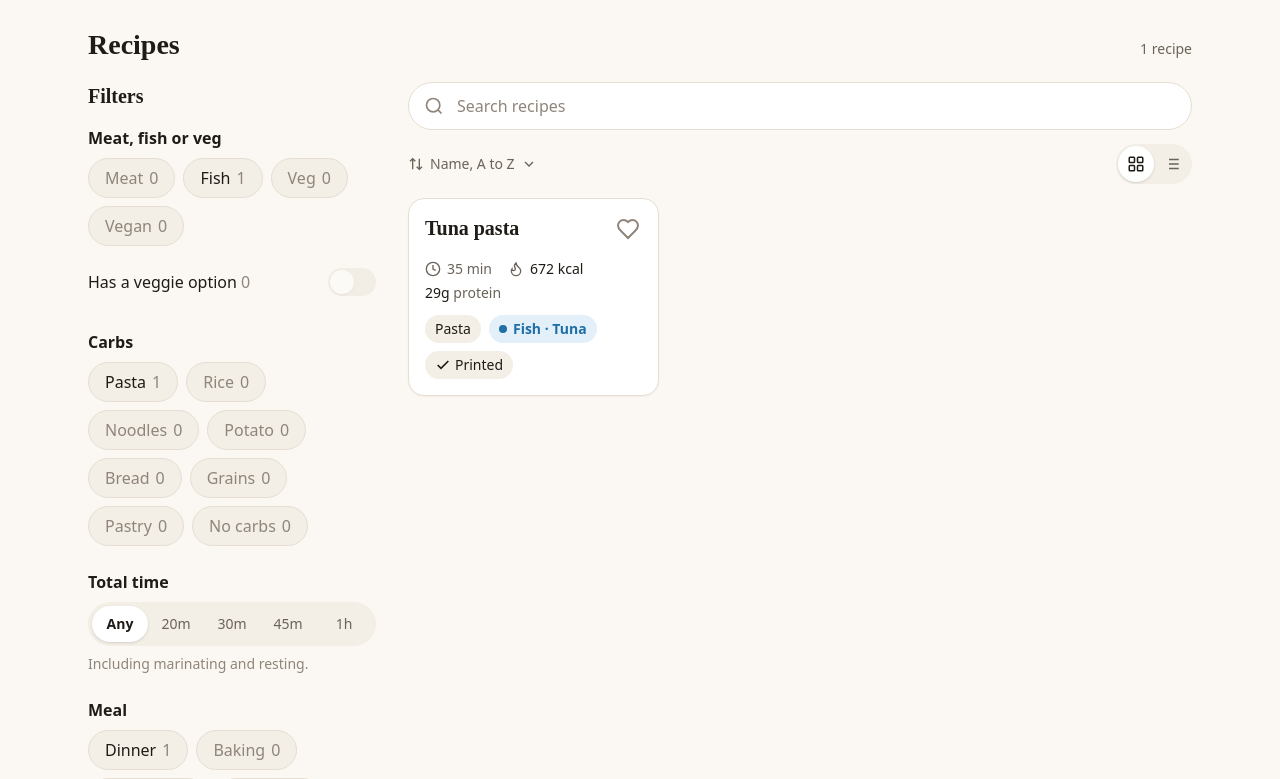
Test: the recipe library › switches view and remembers the choice in a cookie
Click the button named "List": {"x": 1172, "y": 164} left=1154, top=146, right=1190, bottom=182
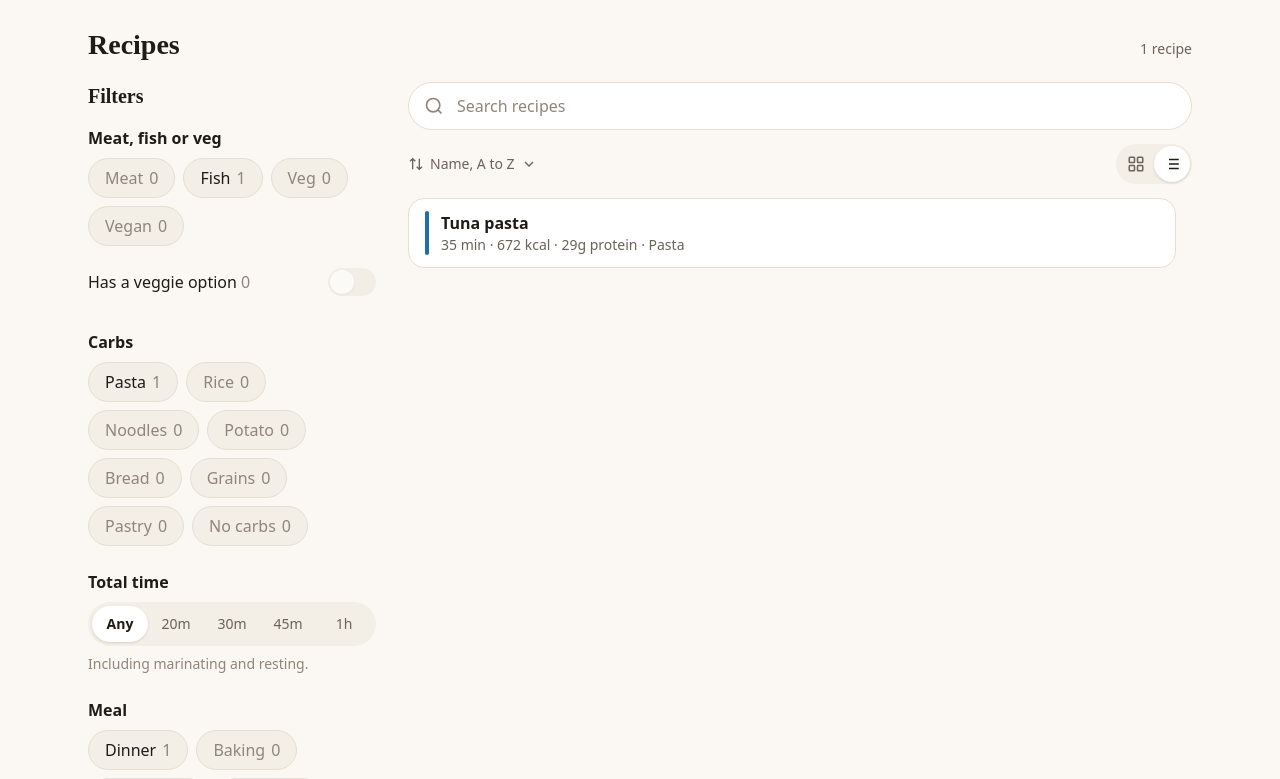
Click the button named "Cards": {"x": 1136, "y": 164} left=1118, top=146, right=1154, bottom=182
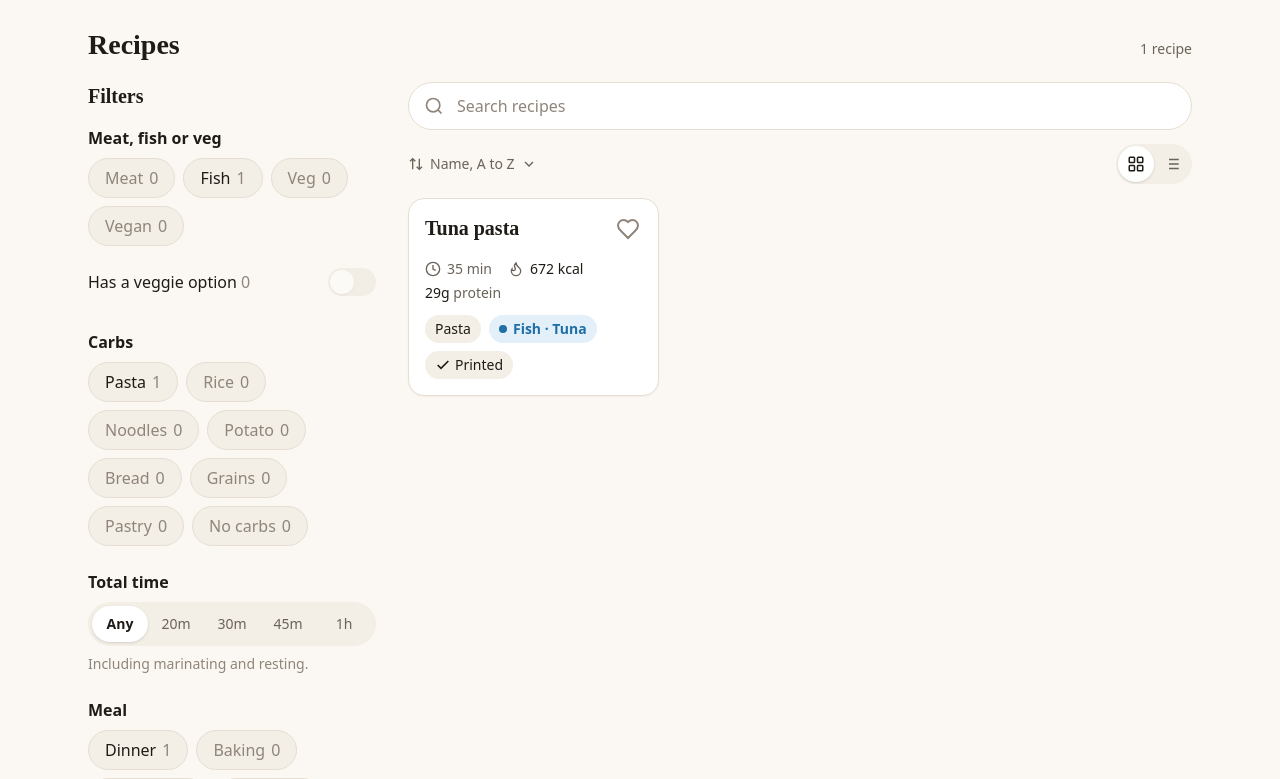
Result: the element that starts with "Tuna pasta" is shown at left=408, top=198, right=659, bottom=396
